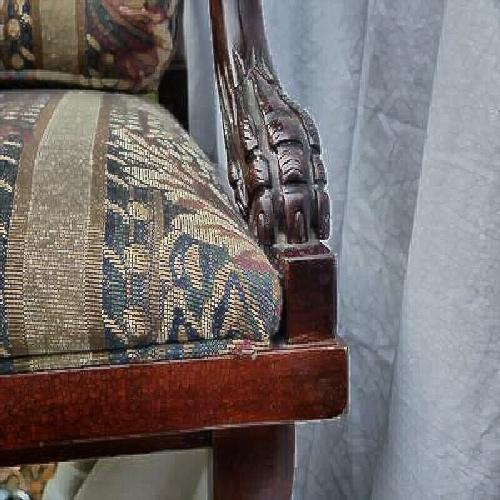chair: (19, 18, 356, 468)
